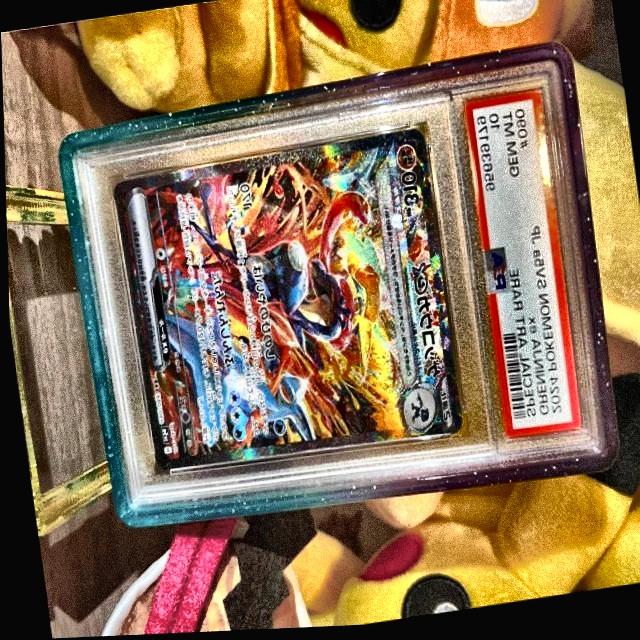card: (111, 131, 459, 471)
